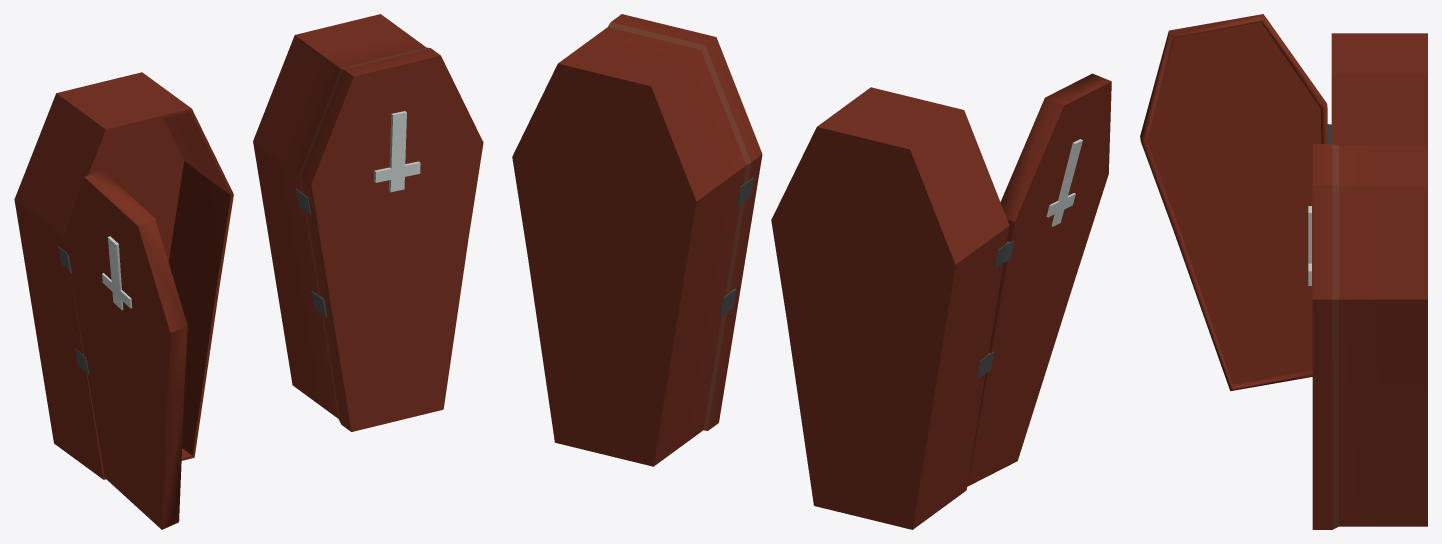
File: coffin.fbx
3 renders of one model, left to right at view 1: azimuth 30°, elevation 25°; view 2: azimuth 150°, elevation 25°; view 3: azimuth 270°, elevation 25°, orthographic. The views are drawn at different scales.
Parts seen in each view (by area): view 1: Close, Open; view 2: Open, Close; view 3: Open, Close.
Boxes of the visible parts, <box> form: Close: <box>253,14,483,431</box>; Open: <box>14,72,233,529</box>; Open: <box>771,73,1111,529</box>; Close: <box>512,14,762,466</box>; Open: <box>1140,14,1427,391</box>; Close: <box>1308,144,1427,529</box>.
Bounding box in the file's own units: 292 × 240 × 177.
